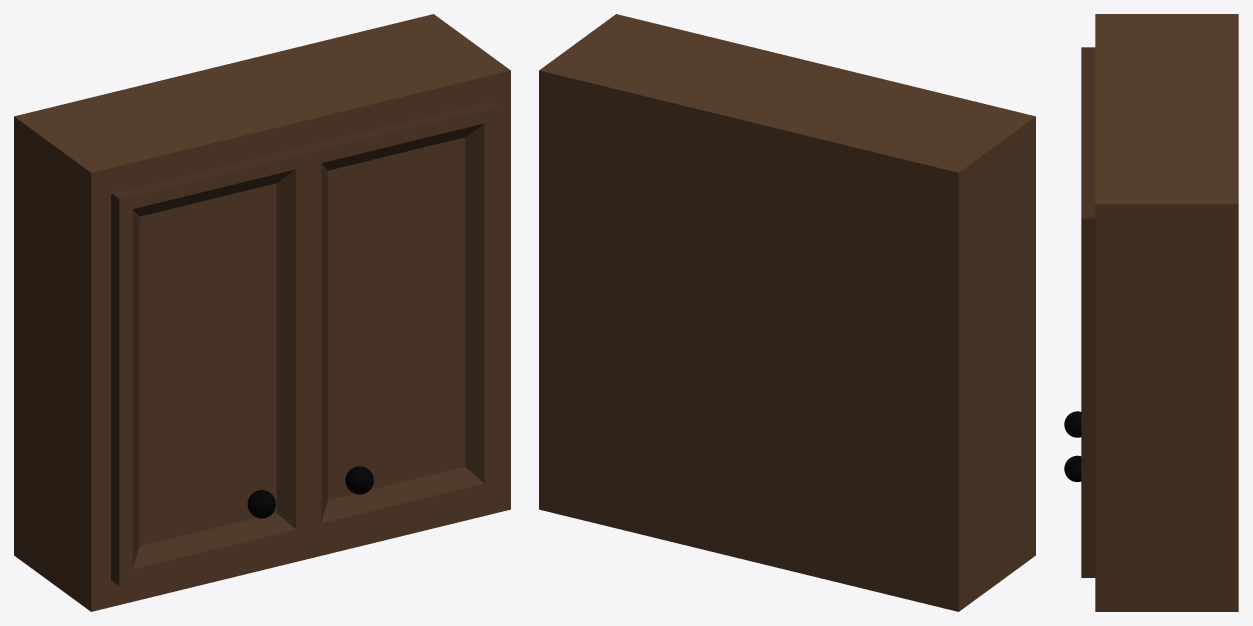
The model's file is Cupboard01.fbx.
3 renders of one model, left to right at view 1: azimuth 30°, elevation 25°; view 2: azimuth 150°, elevation 25°; view 3: azimuth 270°, elevation 25°, orthographic. The views are drawn at different scales.
Parts seen in each view (by area): view 1: Cube; view 2: Cube; view 3: Cube.
Boxes of the visible parts, left/top/right/bottom form: Cube: left=14, top=14, right=510, bottom=611; Cube: left=539, top=14, right=1035, bottom=611; Cube: left=1064, top=14, right=1238, bottom=611.
Size of the model in its own units: 140 by 140 by 54.24.
